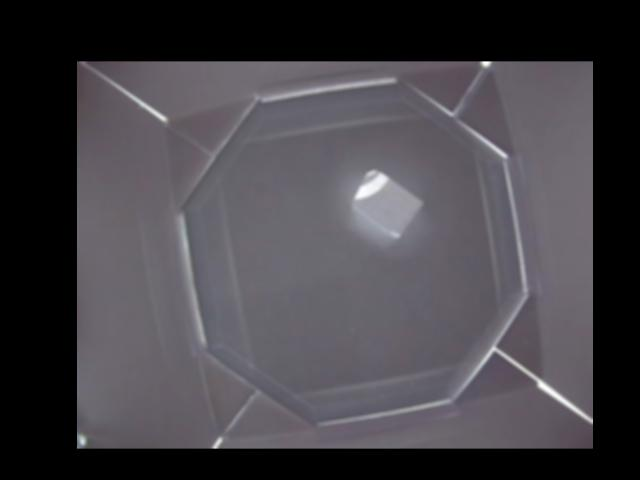China: (354, 170, 422, 238)
